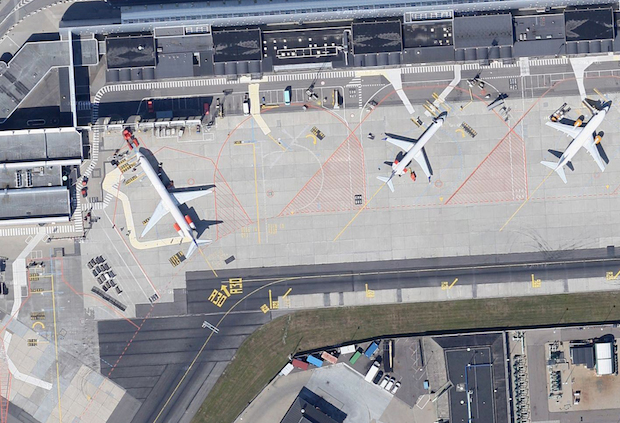aircraft: (135, 151, 218, 259), (540, 101, 611, 185), (377, 111, 449, 191)
